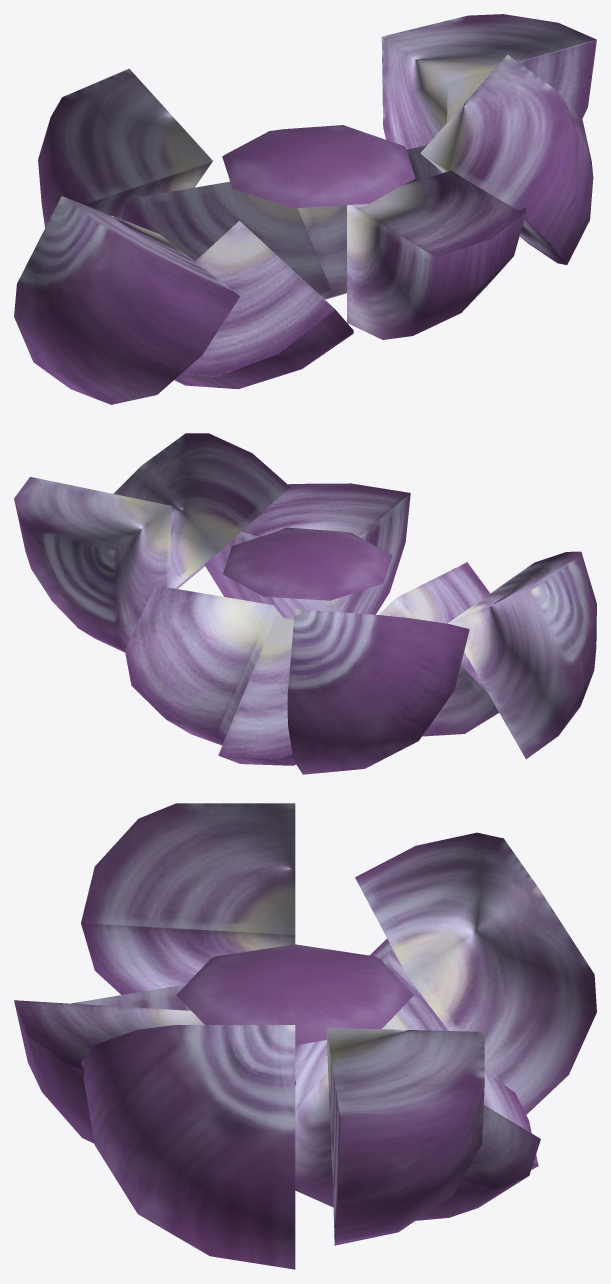
The model's file is onion.glb.
3 renders of one model, top to bottom at view 1: azimuth 30°, elevation 25°; view 2: azimuth 150°, elevation 25°; view 3: azimuth 270°, elevation 25°, orthographic. The views are drawn at different scales.
Parts seen in each view (by area): view 1: polySurface18, polySurface13, polySurface12, polySurface14, polySurface16, polySurface19, onion_top_mesh1, polySurface17, polySurface15; view 2: polySurface16, polySurface18, polySurface14, polySurface15, polySurface12, polySurface13, onion_top_mesh1, polySurface17, polySurface19; view 3: polySurface12, polySurface16, polySurface18, polySurface14, onion_top_mesh1, polySurface13, polySurface15, polySurface17, polySurface19.
Boxes of the visible parts, box(x1,y1,x2,y2) form: polySurface18: box(14, 196, 240, 404); polySurface13: box(347, 170, 526, 339); polySurface12: box(420, 54, 593, 264); polySurface14: box(381, 14, 596, 173); polySurface16: box(38, 68, 212, 227); polySurface19: box(174, 221, 353, 389); onion_top_mesh1: box(222, 125, 415, 208); polySurface17: box(121, 181, 331, 296); polySurface15: box(297, 145, 438, 299); polySurface16: box(287, 609, 469, 774); polySurface18: box(448, 551, 596, 759); polySurface14: box(14, 477, 171, 652); polySurface15: box(125, 585, 282, 745); polySurface12: box(113, 433, 289, 588); polySurface13: box(204, 483, 410, 619); onion_top_mesh1: box(223, 527, 392, 600); polySurface17: box(218, 616, 296, 765); polySurface19: box(379, 562, 498, 736); polySurface12: box(81, 1025, 295, 1269); polySurface16: box(355, 832, 596, 1114); polySurface18: box(81, 803, 295, 994); polySurface14: box(326, 1027, 484, 1245); onion_top_mesh1: box(176, 944, 413, 1045); polySurface13: box(14, 1000, 204, 1143); polySurface15: box(295, 1072, 540, 1220); polySurface17: box(295, 938, 538, 1169); polySurface19: box(71, 984, 296, 1084).
Size of the model in its own units: 2 by 0.7738 by 1.4.
Materials: 1 (1 with a texture image).
